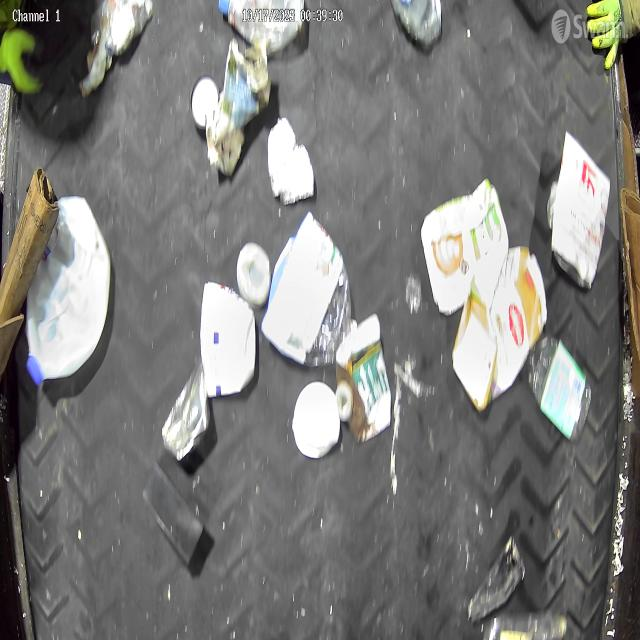can: (163, 361, 212, 462)
milk_jug: (25, 196, 112, 387)
non_white_jug: (452, 247, 547, 410), (421, 178, 509, 316)
plastic_bottle: (525, 333, 592, 441), (482, 610, 566, 640)
